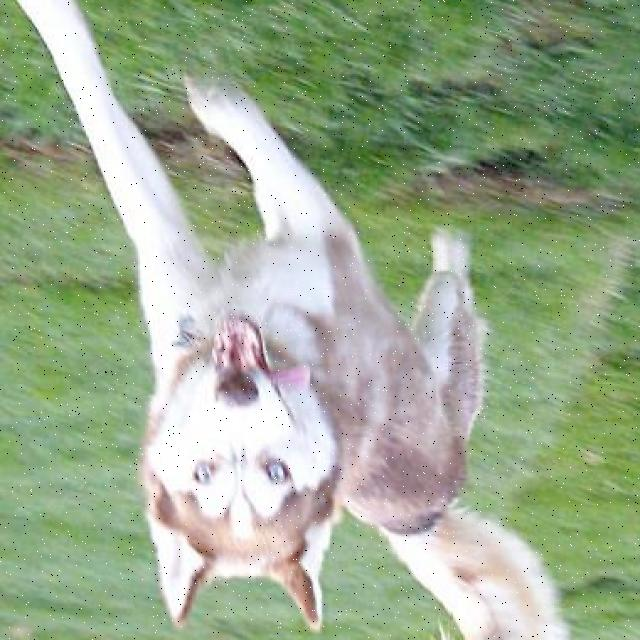Dog: (122, 285, 355, 640)
